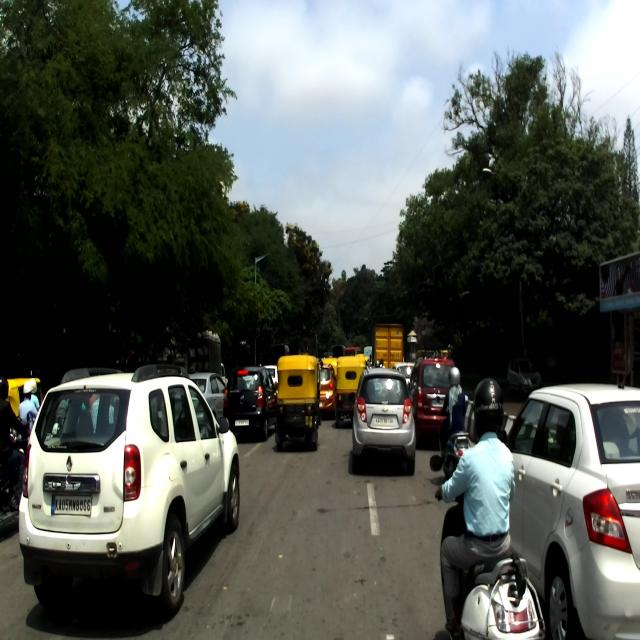Car_Chevrolet: (351, 364, 416, 475)
Car_Hyundai: (222, 364, 279, 441), (504, 355, 542, 396)
Car_Maruti-Suzuki: (498, 379, 639, 639), (406, 357, 456, 446)
Car_Renault: (14, 361, 241, 617)
autorickshaw: (276, 352, 323, 452), (335, 355, 367, 430)
scooter: (428, 454, 546, 639), (434, 395, 469, 481)
